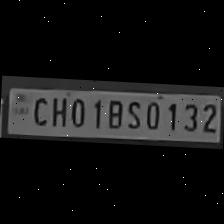0: (66, 94, 88, 128), (142, 98, 162, 130)
1: (160, 99, 180, 131), (87, 95, 105, 129)
2: (198, 99, 220, 133)
3: (179, 100, 199, 132)
B: (102, 95, 124, 129)
C: (28, 92, 48, 126)
H: (47, 92, 69, 128)
S: (123, 96, 143, 130)
